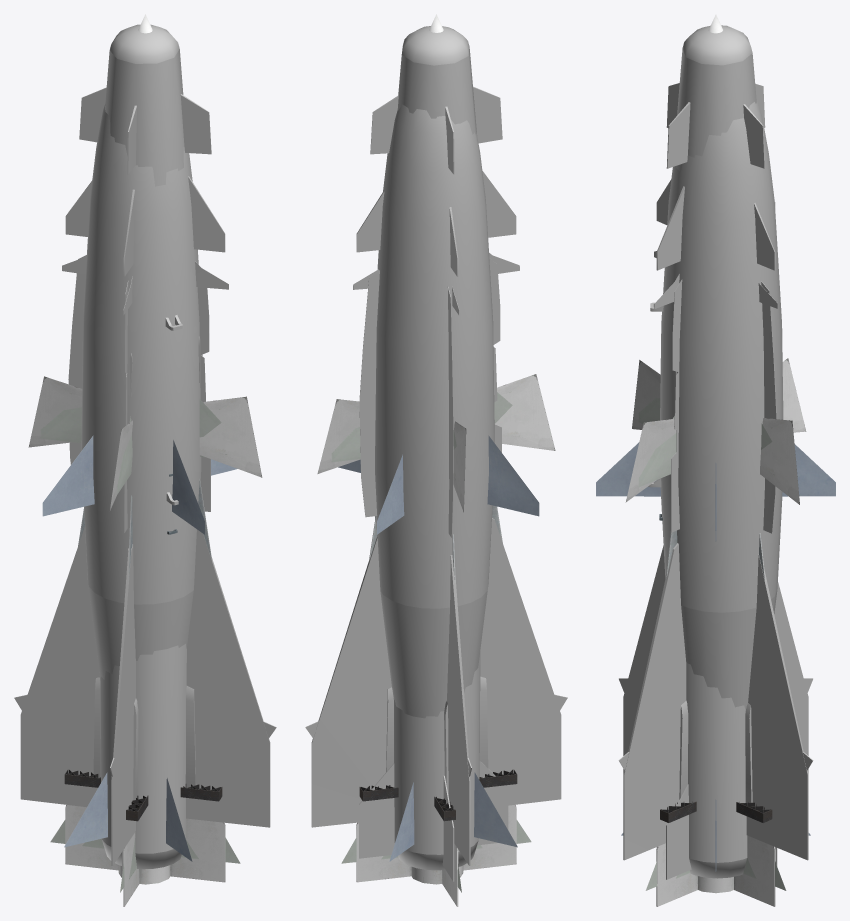
The model's file is missile pack.FBX.
3 views of the same model, side by side, from view 1: azimuth 30°, elevation 25°; view 2: azimuth 150°, elevation 25°; view 3: azimuth 270°, elevation 25° (orthographic).
Visible parts, largest first — view 1: missile 14, missile 15, missile 12, missile 4, missile 6, missile 9, missile 13, missile 10, missile 2; view 2: missile 15, missile 14, missile 12, missile 4, missile 9, missile 6, missile 13, missile 10; view 3: missile 15, missile 14, missile 12, missile 4, missile 6, missile 9, missile 13, missile 10.
Boxes of the visible parts, left/top/right/bottom form: missile 14: left=20, top=24, right=270, bottom=869; missile 15: left=68, top=104, right=210, bottom=875; missile 12: left=28, top=14, right=262, bottom=906; missile 4: left=42, top=435, right=237, bottom=861; missile 6: left=40, top=399, right=240, bottom=892; missile 9: left=14, top=336, right=276, bottom=800; missile 13: left=64, top=769, right=222, bottom=821; missile 10: left=62, top=256, right=228, bottom=315; missile 2: left=78, top=479, right=212, bottom=581; missile 15: left=359, top=104, right=508, bottom=881; missile 14: left=311, top=26, right=561, bottom=870; missile 12: left=317, top=14, right=555, bottom=906; missile 4: left=338, top=435, right=539, bottom=861; missile 9: left=305, top=676, right=567, bottom=795; missile 6: left=331, top=392, right=531, bottom=892; missile 13: left=359, top=769, right=517, bottom=821; missile 10: left=353, top=252, right=519, bottom=315; missile 15: left=648, top=98, right=783, bottom=879; missile 14: left=623, top=25, right=808, bottom=878; missile 12: left=625, top=14, right=806, bottom=906; missile 4: left=596, top=442, right=835, bottom=871; missile 6: left=638, top=398, right=786, bottom=890; missile 9: left=618, top=371, right=813, bottom=802; missile 13: left=660, top=801, right=772, bottom=822; missile 10: left=654, top=251, right=777, bottom=308.
Bounding box in the file's own units: 64.02 × 256 × 64.02.
